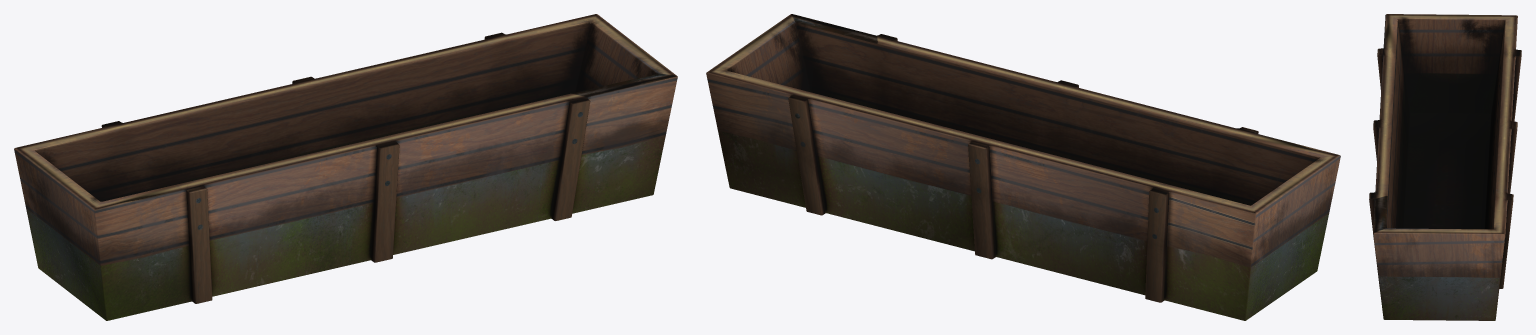
Rendered from SM_WBT_courtFeeder_low.fbx.
3 views of the same model, side by side, from view 1: azimuth 30°, elevation 25°; view 2: azimuth 150°, elevation 25°; view 3: azimuth 270°, elevation 25° (orthographic). The views are drawn at different scales.
Parts seen in each view (by area): view 1: SM_WBT_Feeder; view 2: SM_WBT_Feeder; view 3: SM_WBT_Feeder.
Part boxes in pixels (x1=…): SM_WBT_Feeder: x1=14, y1=14, x2=677, y2=320; SM_WBT_Feeder: x1=706, y1=14, x2=1340, y2=320; SM_WBT_Feeder: x1=1369, y1=14, x2=1521, y2=320.
Size of the model in its own units: 725 by 212 by 143.
